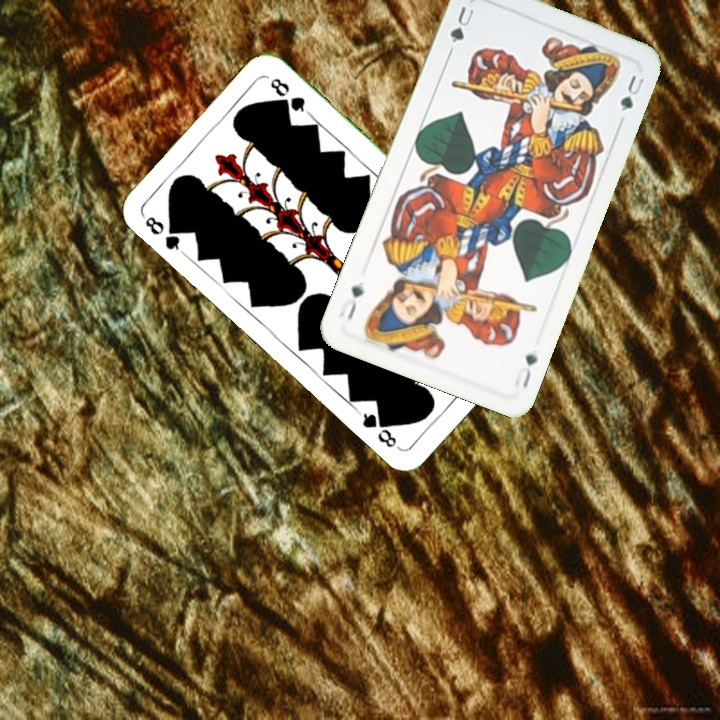G8: (139, 212, 187, 257)
GU: (446, 2, 477, 46), (510, 349, 540, 391)
